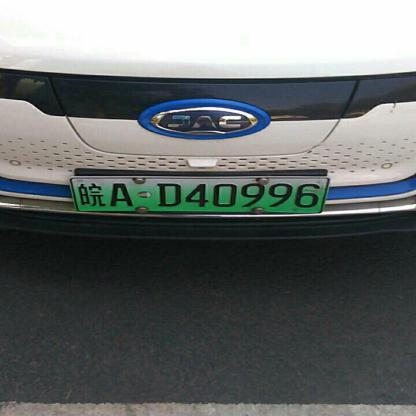lp: (71, 178, 328, 212)
